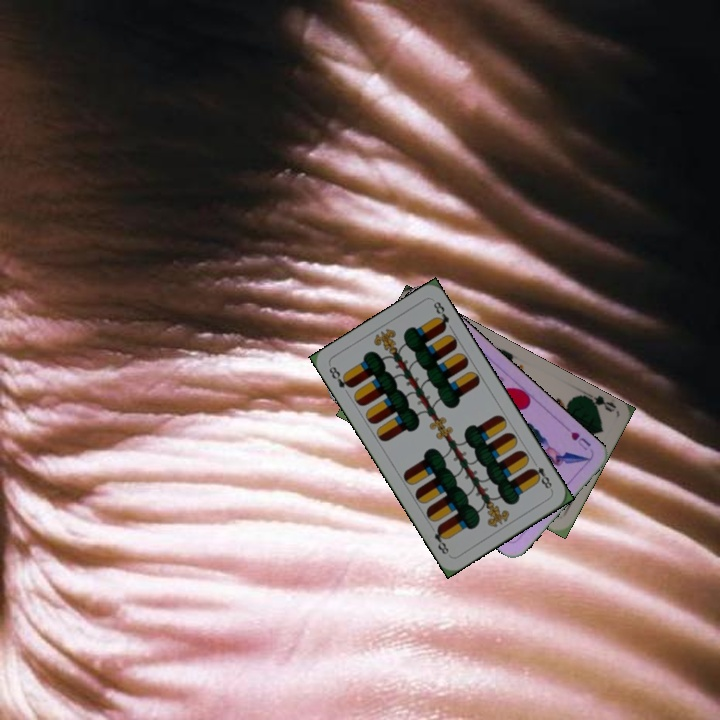E8: (527, 456, 555, 493), (325, 362, 355, 391)
GO: (578, 387, 618, 415)
HU: (567, 427, 593, 453)
